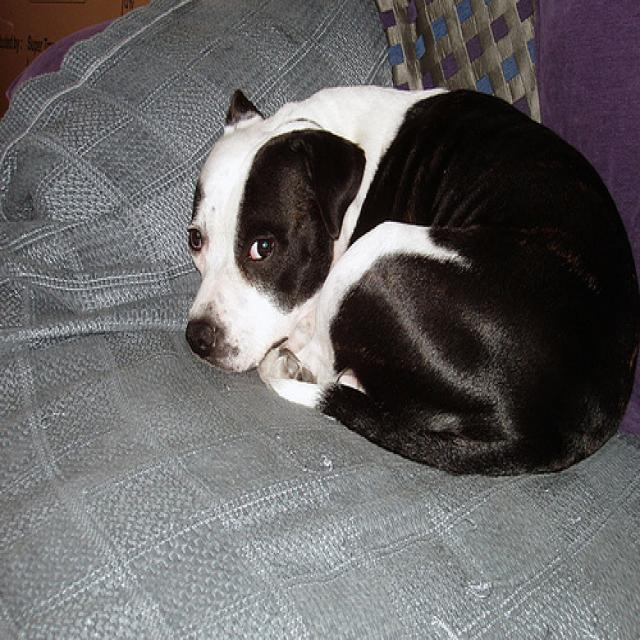dog-staffordshire_bull_terrier: (175, 65, 637, 483)
